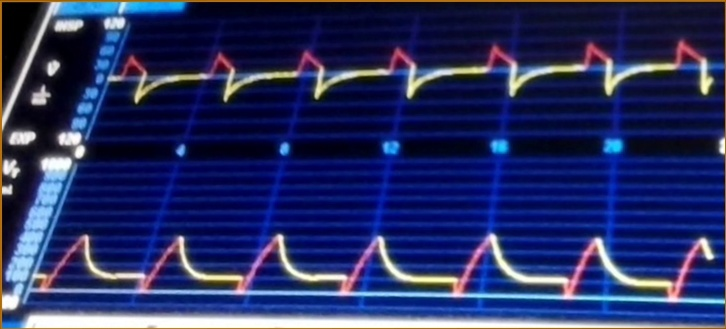Flow: (119, 29, 718, 127)
Leakage Volume: (53, 208, 713, 310)
